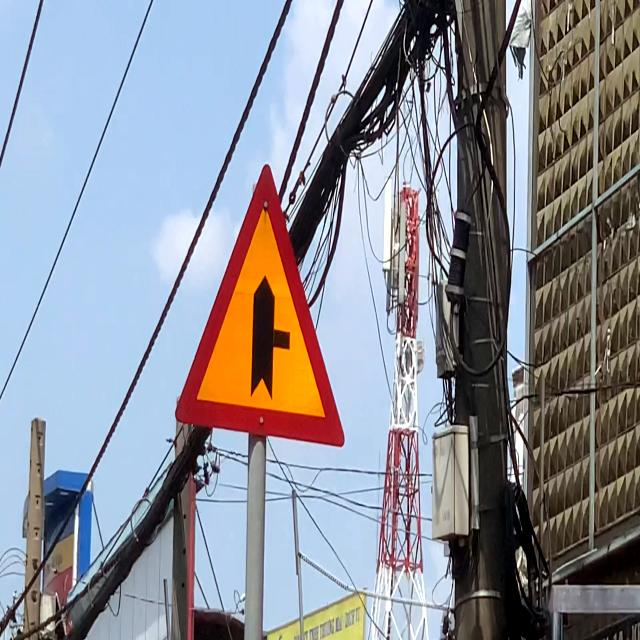W.207b: (174, 160, 348, 451)
